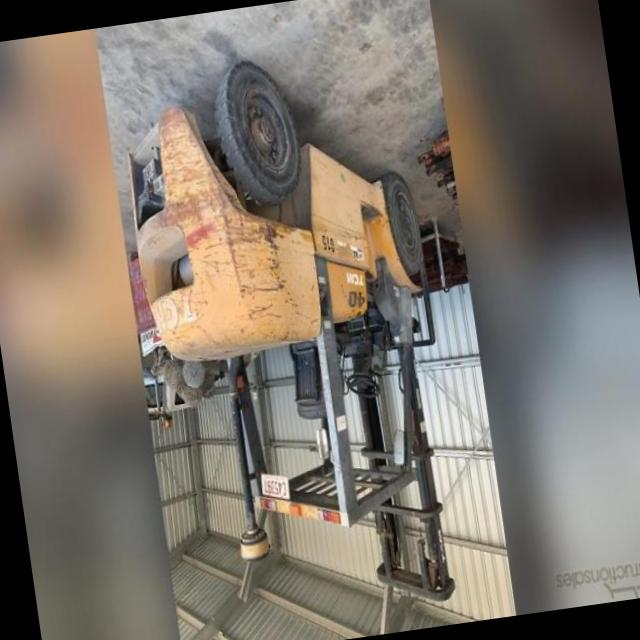forklift: (109, 35, 482, 640)
